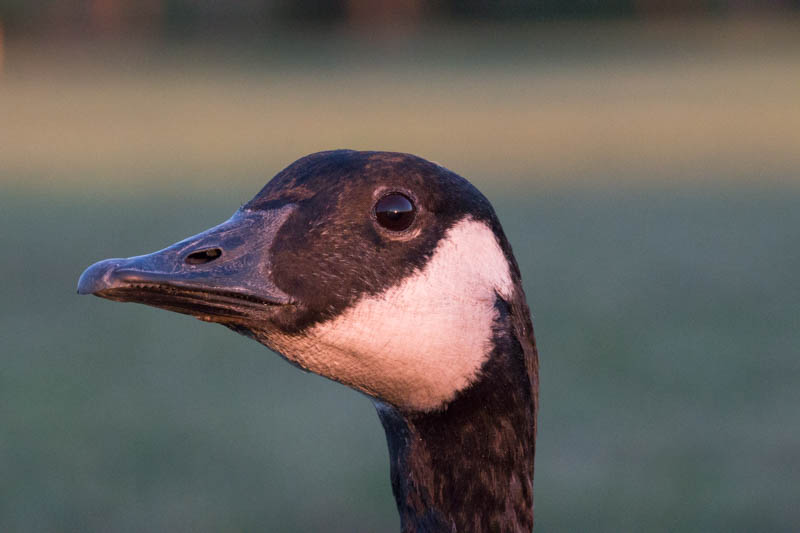goose-head: (74, 149, 538, 417)
